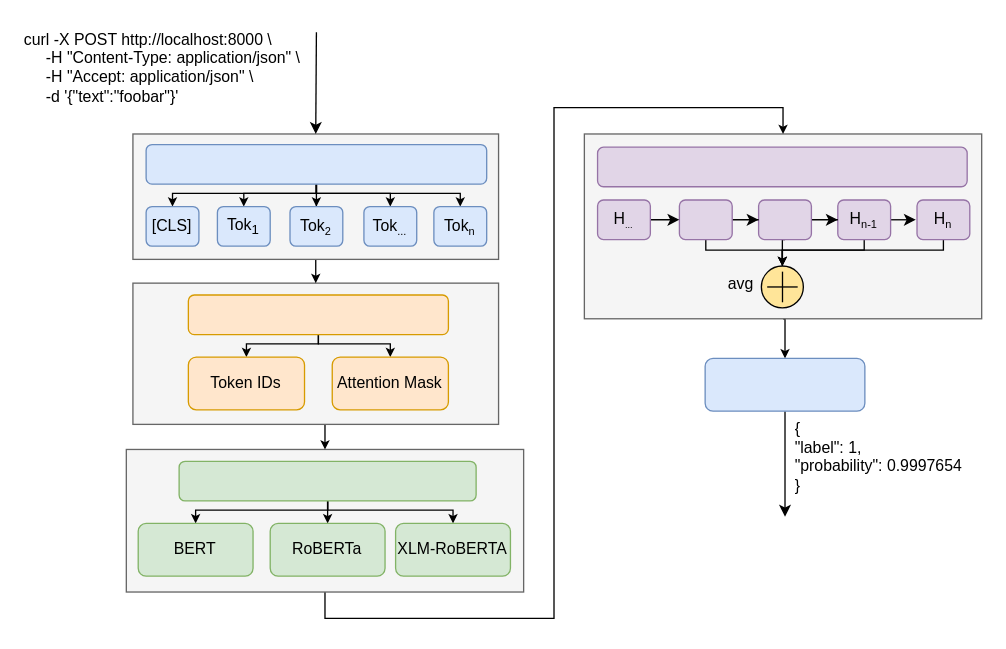
This 1006x649 diagram has some shape labels left out. Here are the shapes that lost their labels. From the top down, the centre of each, then its label:
[316,163]: Tokenisierung des Textes
[781,166]: Bildung des Embeddings aus den Hidden States
[705,219]: H n-3
[784,219]: H n-2
[317,314]: Erstellung der Input-Tensoren
[784,384]: LightGBM
[327,480]: Einspeisung in das Transformer Modell
